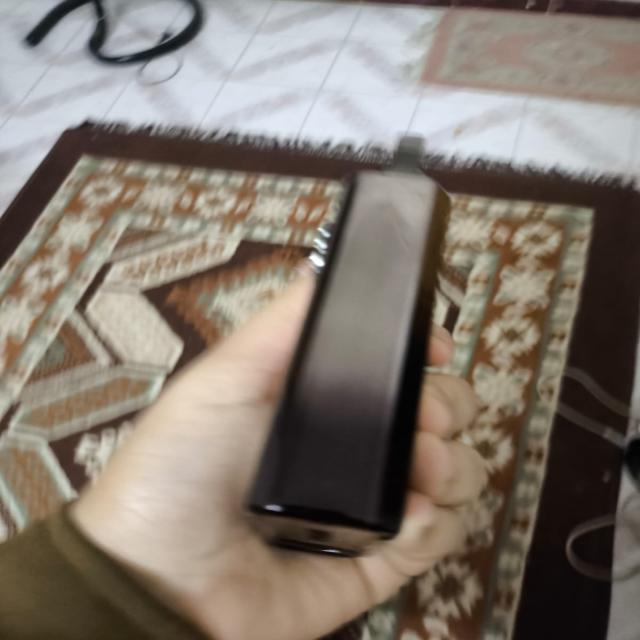Afnan: (240, 132, 452, 558)
